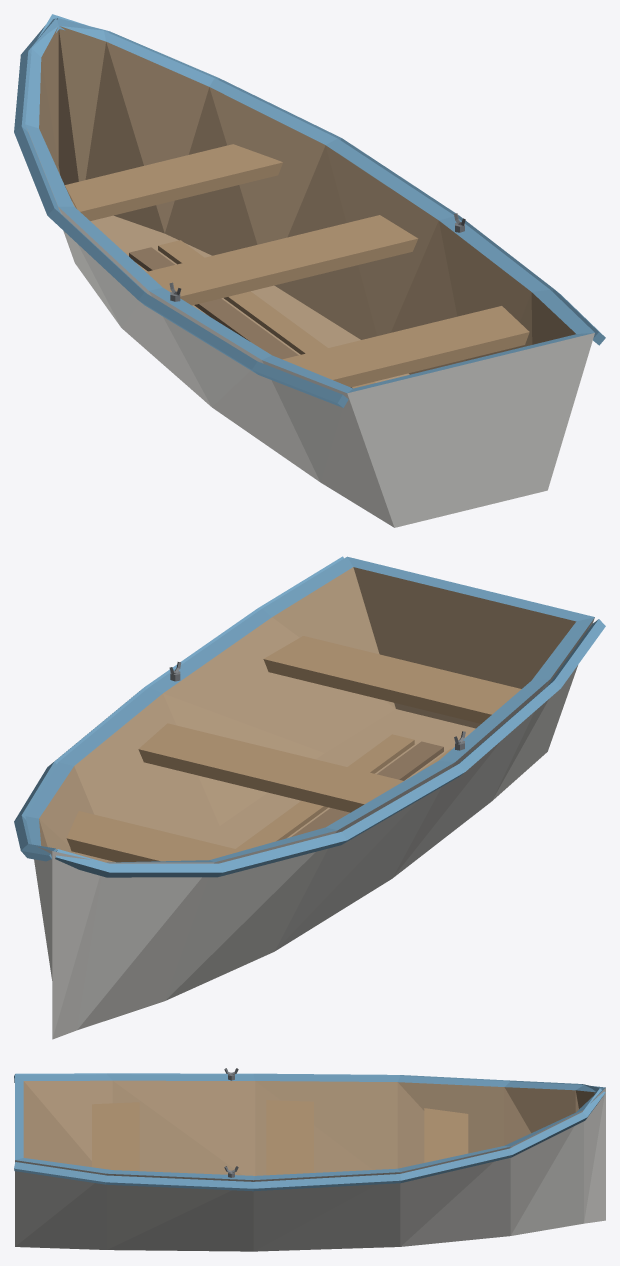
File: rowboat.glb
3 renders of one model, top to bottom at view 1: azimuth 30°, elevation 25°; view 2: azimuth 150°, elevation 25°; view 3: azimuth 270°, elevation 25°, orthographic. The views are drawn at different scales.
Parts seen in each view (by area): view 1: rowboat; view 2: rowboat; view 3: rowboat.
Part boxes in pixels (left/top/right/bottom): rowboat: left=14, top=14, right=605, bottom=527; rowboat: left=14, top=556, right=605, bottom=1039; rowboat: left=14, top=1068, right=605, bottom=1251.
Bounding box in the file's own units: 1.45 × 0.8 × 3.22.
